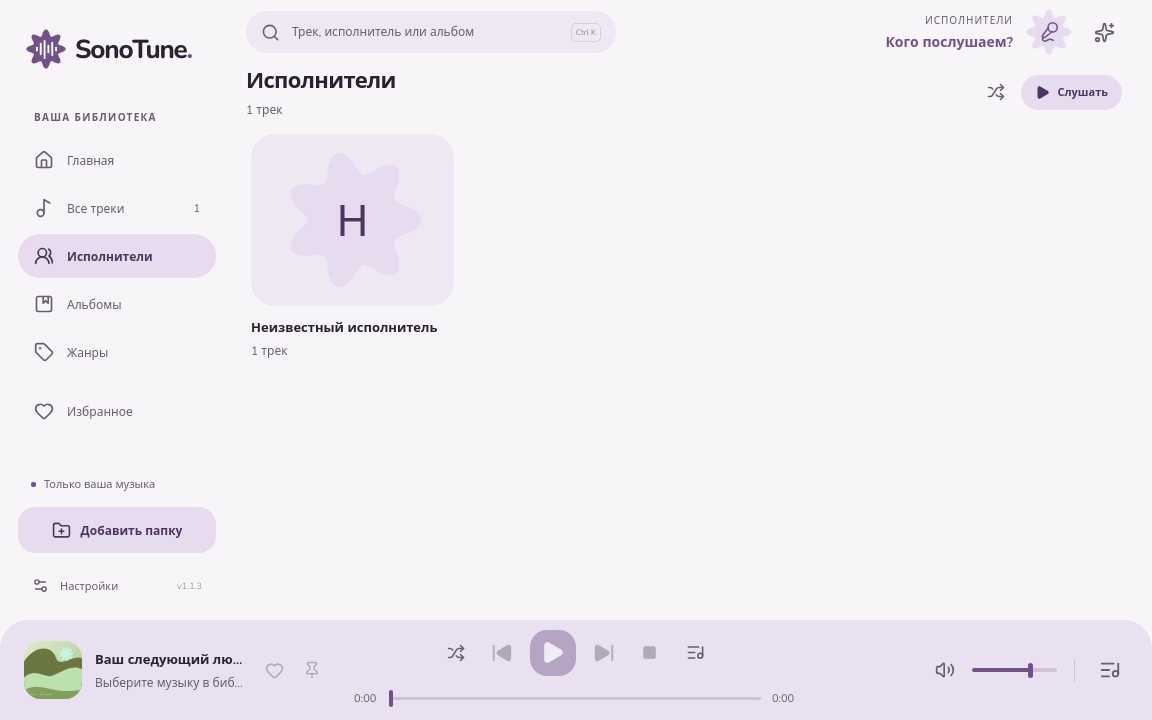
Test: keeps an unknown-artist group selected when changing language
Click the button "Н Неизвестный исполнитель 1 трек": (352, 246) [251,134,454,359]
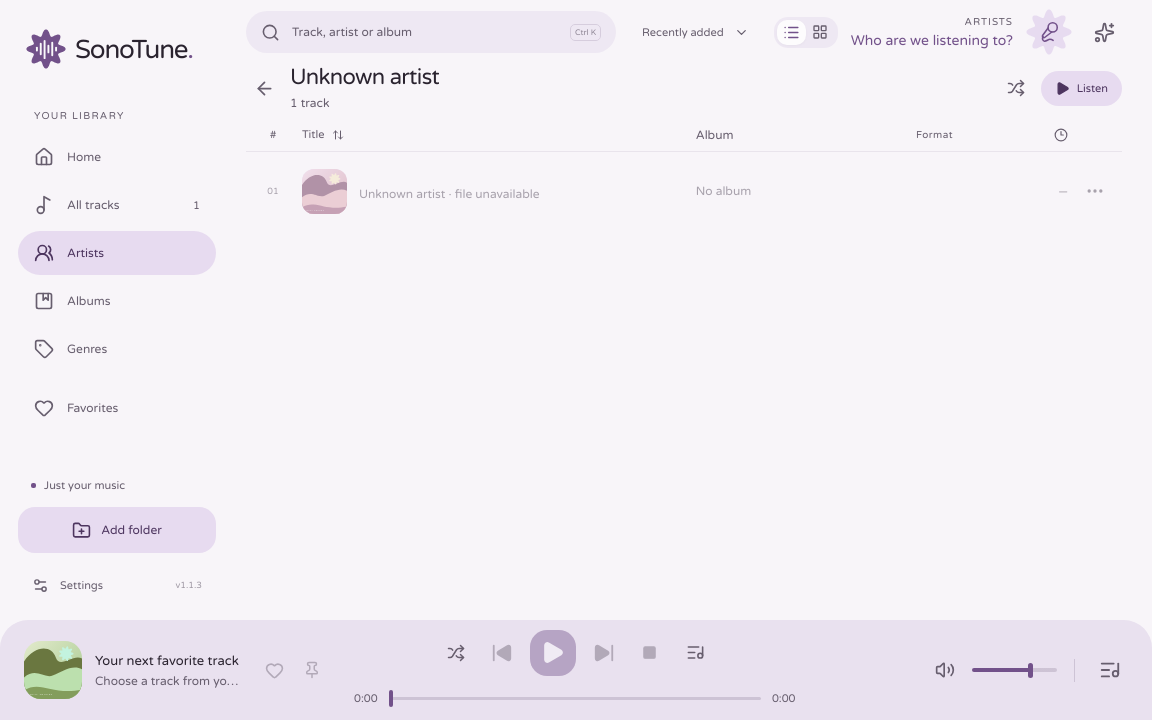
Check: the heading "Unknown artist" is shown, box [290,64,439,90]
Check: the table named "Track list" is shown, box [246,118,1122,214]
